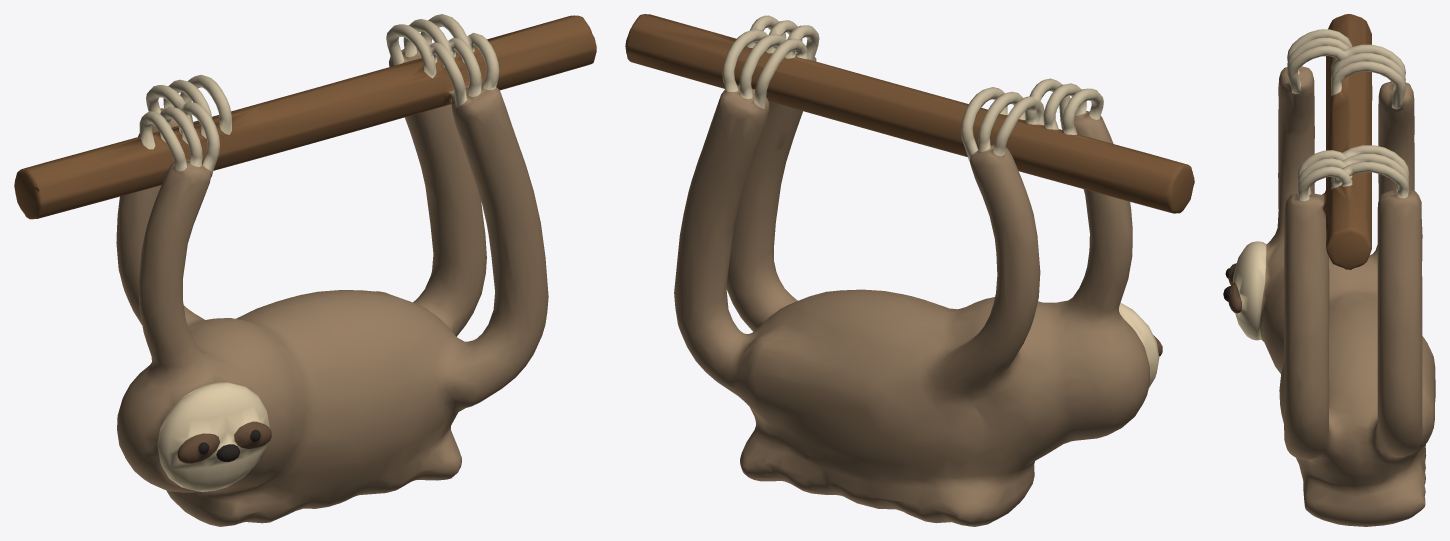
File: NEW_RECOVERY_130_LOD1.glb
3 views of the same model, side by side, from view 1: azimuth 30°, elevation 25°; view 2: azimuth 150°, elevation 25°; view 3: azimuth 270°, elevation 25° (orthographic). The views are drawn at different scales.
Visible parts, largest first — view 1: whole_sloth_supported; view 2: whole_sloth_supported; view 3: whole_sloth_supported.
Boxes of the visible parts, x1,y1,x2,y2 form: whole_sloth_supported: [14, 14, 596, 526]; whole_sloth_supported: [625, 14, 1194, 526]; whole_sloth_supported: [1223, 14, 1435, 526].
Bounding box in the file's own units: 3.25 × 2.45 × 1.25.
